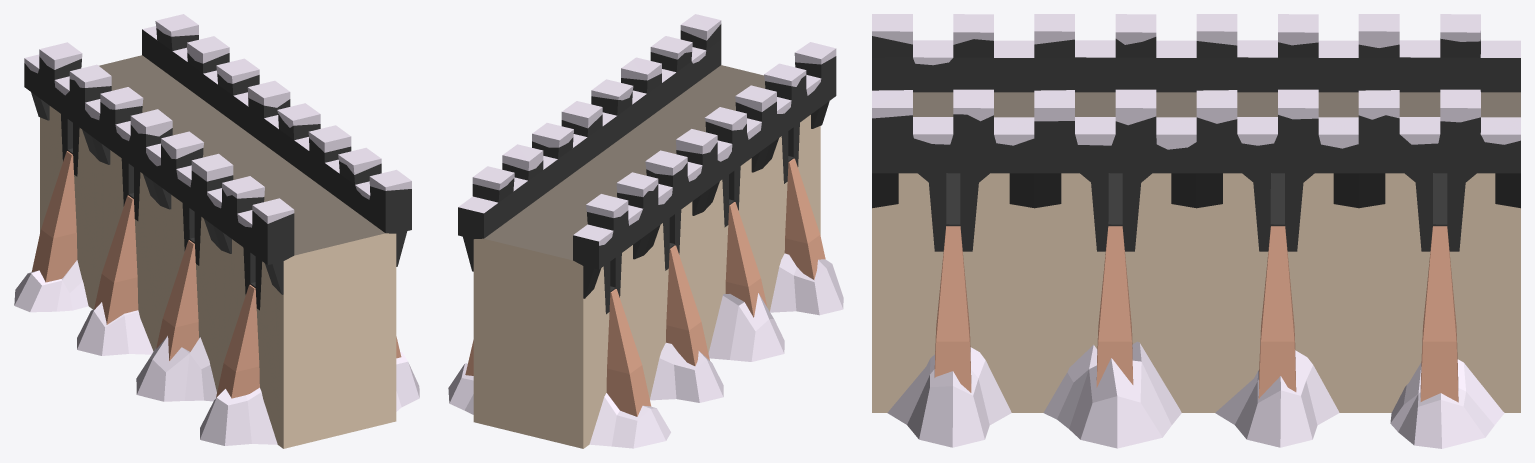
The model's file is winter_castle_wall3.glb.
The picture shows the model from 3 angles, left to right: view 1: azimuth 30°, elevation 25°; view 2: azimuth 150°, elevation 25°; view 3: azimuth 270°, elevation 25°; orthographic projection. The views are drawn at different scales.
Visible parts, largest first — view 1: Wall3_Medieval_0; view 2: Wall3_Medieval_0; view 3: Wall3_Medieval_0.
Part boxes in pixels (x1=…): Wall3_Medieval_0: x1=14, y1=14, x2=419, y2=448; Wall3_Medieval_0: x1=448, y1=14, x2=843, y2=448; Wall3_Medieval_0: x1=872, y1=14, x2=1520, y2=448.
Bounding box in the file's own units: 4.24 × 4.29 × 8.
Materials: 1 (1 with a texture image).
